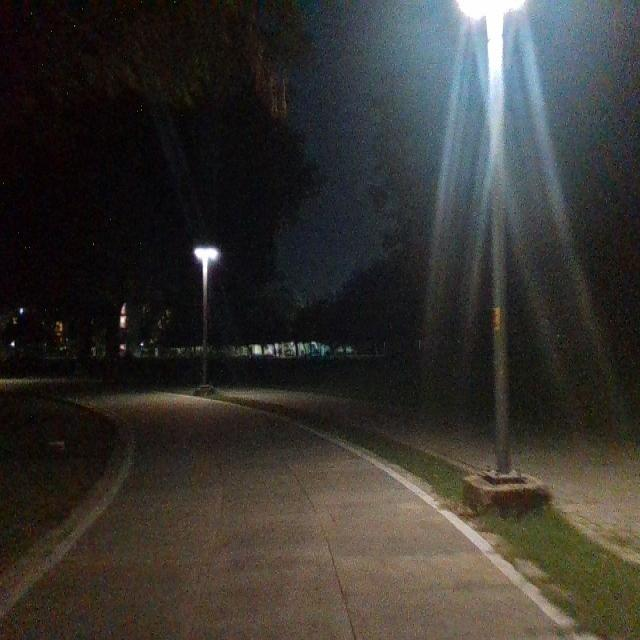lane: (1, 392, 571, 639)
